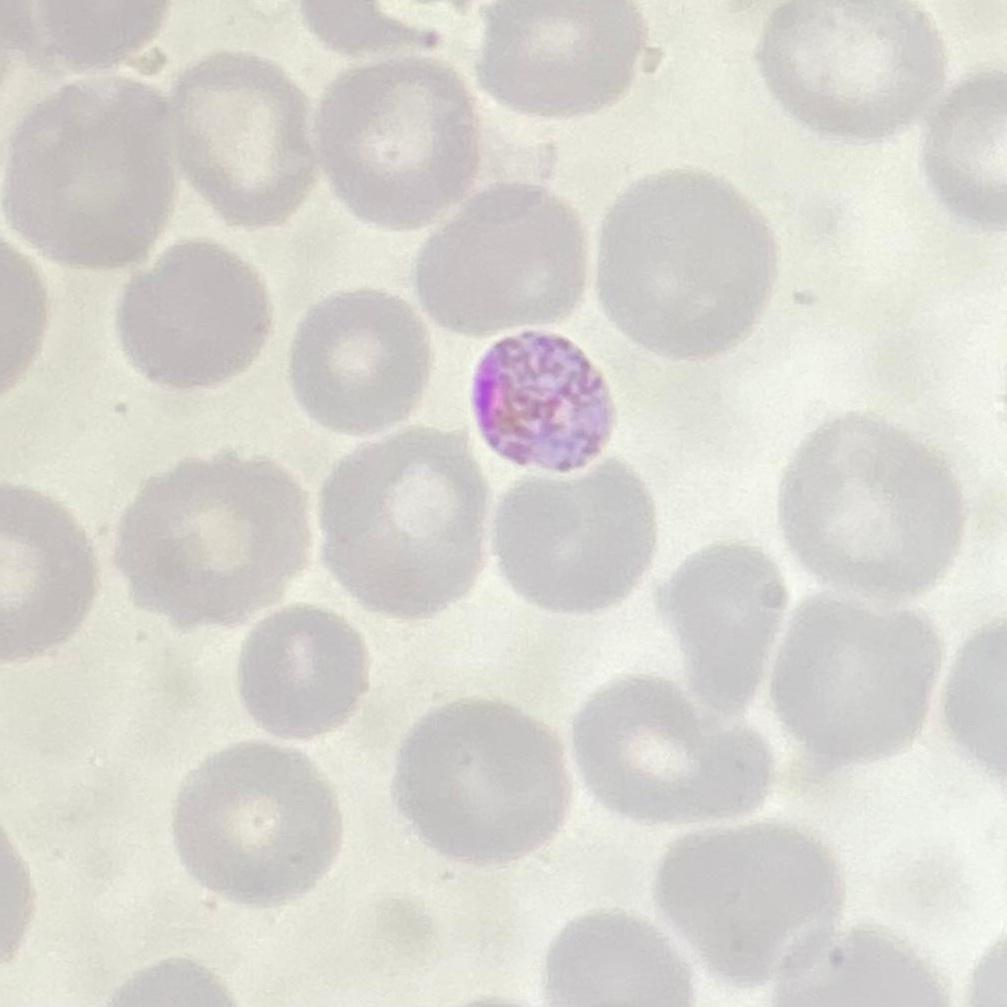Infected: (475, 331, 608, 475)
Uninfected: (592, 166, 778, 364), (117, 448, 314, 630), (778, 408, 968, 590), (5, 76, 176, 264), (562, 673, 774, 821), (328, 431, 491, 623), (662, 818, 844, 978), (395, 701, 574, 860), (772, 596, 942, 763), (167, 741, 339, 902), (312, 66, 474, 228), (422, 178, 589, 331), (762, 0, 939, 144), (115, 233, 266, 393), (500, 458, 654, 613), (175, 48, 306, 229), (288, 283, 431, 438), (470, 1, 646, 126), (662, 536, 784, 713), (0, 491, 98, 663), (238, 606, 356, 741), (545, 903, 691, 1007)
